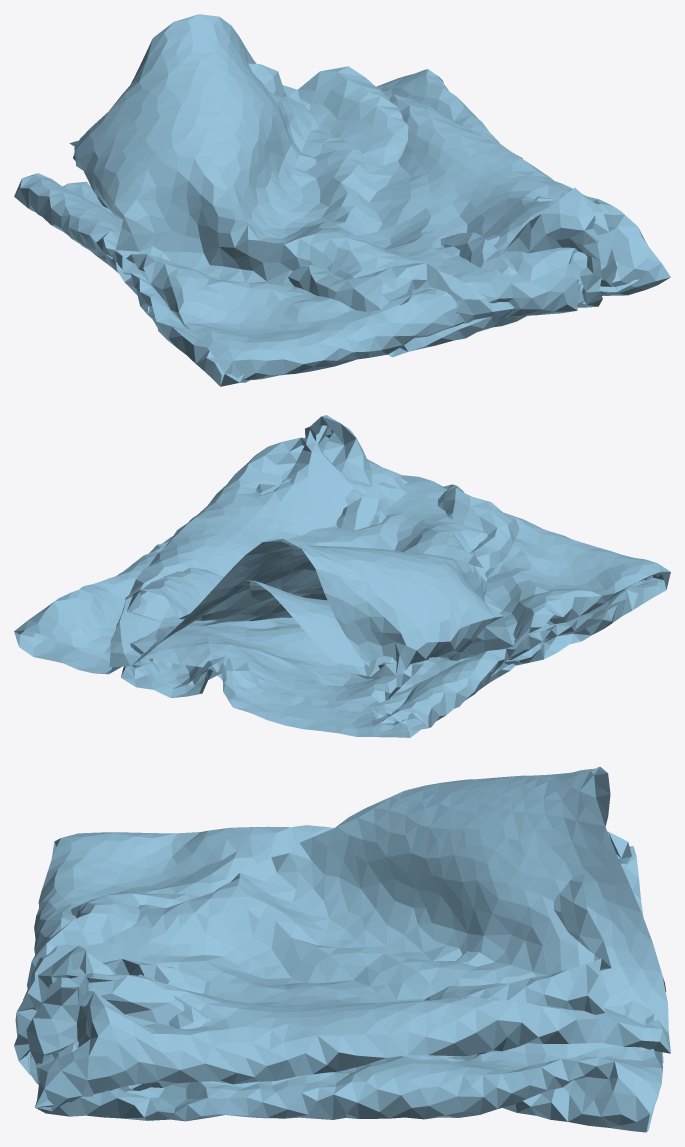
Rendered from frame_20.glb.
3 renders of one model, top to bottom at view 1: azimuth 30°, elevation 25°; view 2: azimuth 150°, elevation 25°; view 3: azimuth 270°, elevation 25°, orthographic. The views are drawn at different scales.
Parts seen in each view (by area): view 1: frame_20.obj; view 2: frame_20.obj; view 3: frame_20.obj.
Boxes of the visible parts, bbox=[...] form: frame_20.obj: bbox=[14, 14, 670, 386]; frame_20.obj: bbox=[14, 415, 670, 737]; frame_20.obj: bbox=[14, 766, 670, 1132].
Size of the model in its own units: 0.8952 by 0.3342 by 0.904.
